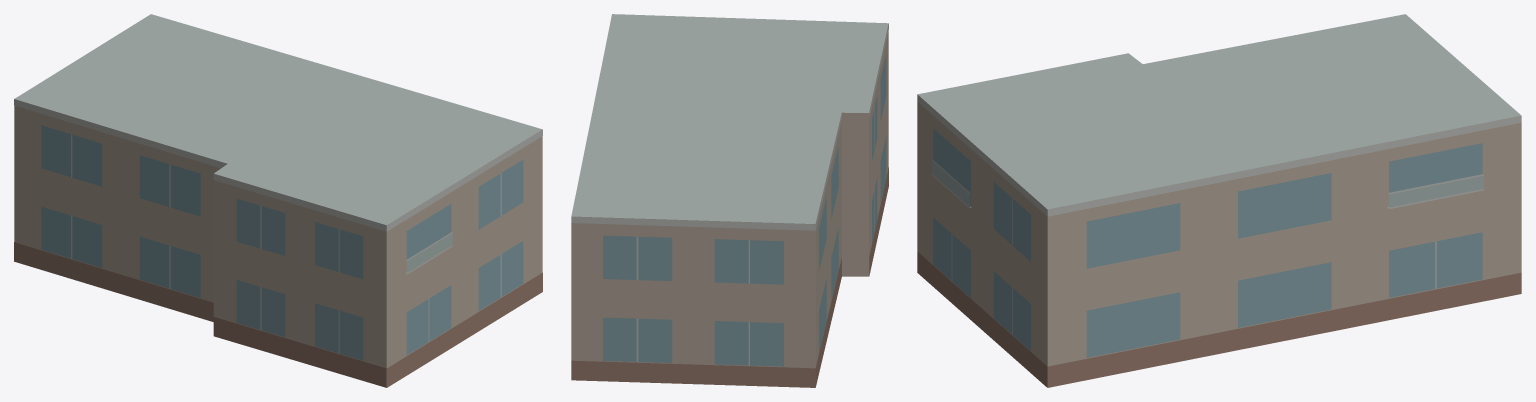
The model's file is survey-upis-32739089.glb.
3 renders of one model, left to right at view 1: azimuth 30°, elevation 25°; view 2: azimuth 150°, elevation 25°; view 3: azimuth 270°, elevation 25°, orthographic. The views are drawn at different scales.
Parts seen in each view (by area): view 1: survey-upis-32739089.tmp; view 2: survey-upis-32739089.tmp; view 3: survey-upis-32739089.tmp.
Boxes of the visible parts, bbox=[...] form: survey-upis-32739089.tmp: bbox=[14, 14, 542, 387]; survey-upis-32739089.tmp: bbox=[571, 14, 888, 387]; survey-upis-32739089.tmp: bbox=[917, 14, 1521, 387].
Size of the model in its own units: 14.35 by 6.1 by 18.74.
